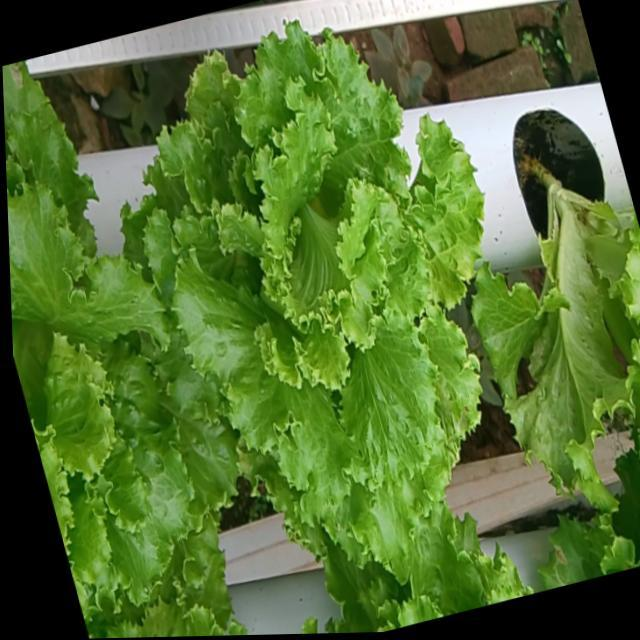Mature: (146, 2, 488, 551), (6, 154, 244, 587)
